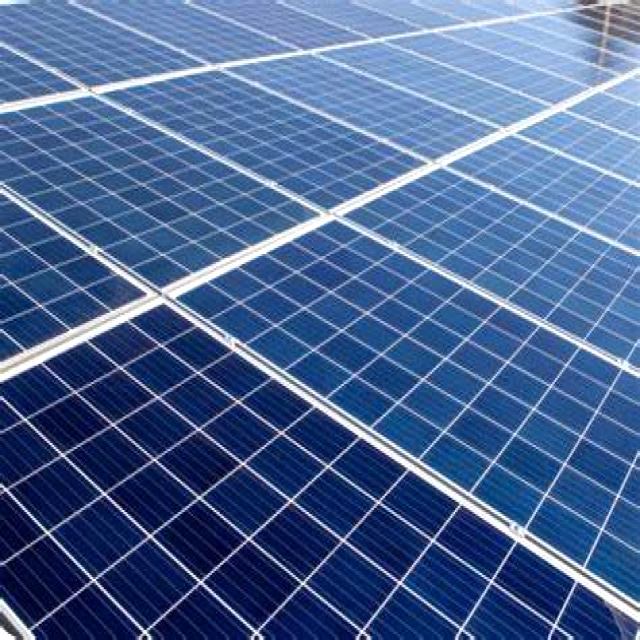crack: (0, 255, 577, 640), (135, 220, 640, 588), (339, 72, 640, 411), (0, 63, 333, 300), (92, 32, 438, 224), (109, 54, 432, 220), (229, 16, 506, 188), (440, 82, 640, 274)
